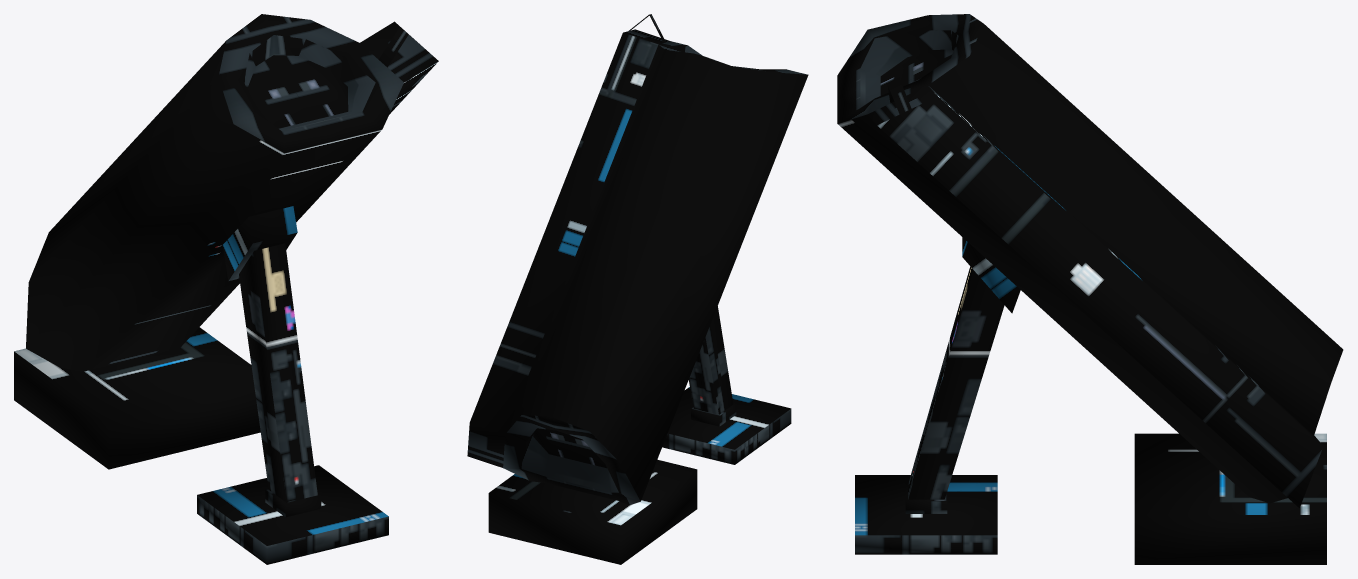
Rendered from ability_developer.obj.
3 renders of one model, left to right at view 1: azimuth 30°, elevation 25°; view 2: azimuth 150°, elevation 25°; view 3: azimuth 270°, elevation 25°, orthographic. The views are drawn at different scales.
Parts seen in each view (by area): view 1: ability_developer_block; view 2: ability_developer_block; view 3: ability_developer_block.
Part boxes in pixels (x1,y1,x2,y2): ability_developer_block: (14,14,438,564); ability_developer_block: (467,14,808,564); ability_developer_block: (837,14,1343,564).
Bounding box in the file's own units: 1.28 × 2.86 × 2.63.
